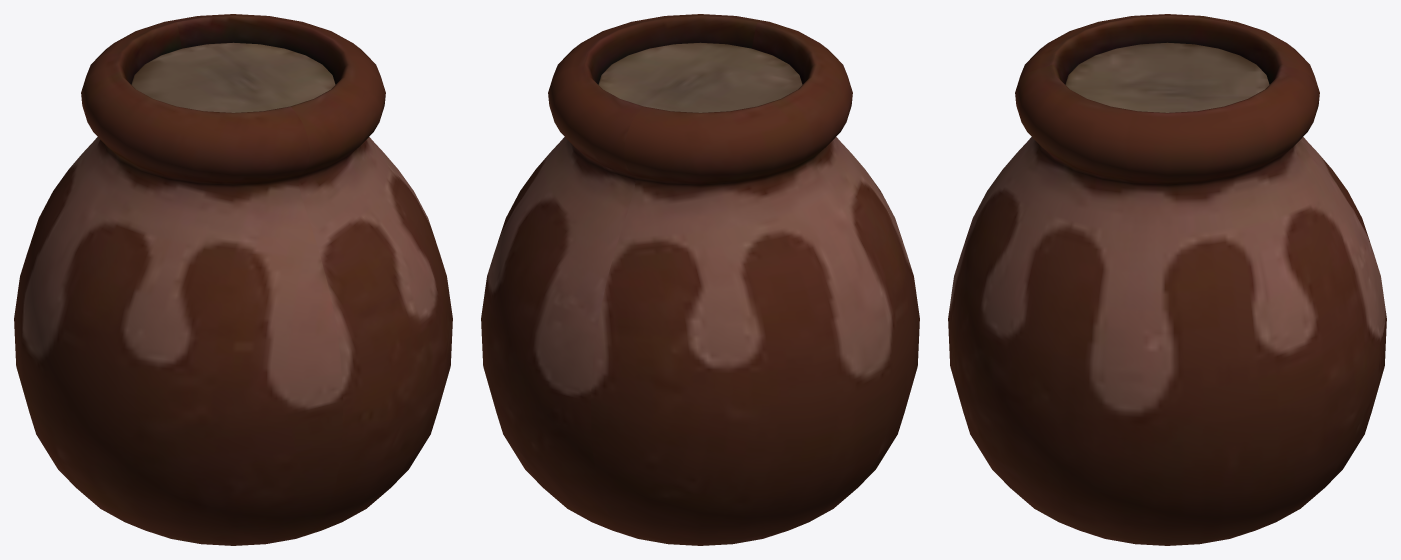
File: SM_pot_46047b.glb
The picture shows the model from 3 angles, left to right: view 1: azimuth 30°, elevation 25°; view 2: azimuth 150°, elevation 25°; view 3: azimuth 270°, elevation 25°; orthographic projection.
Bounding box in the file's own units: 0.7032 × 0.7858 × 0.7032.
Materials: 1 (1 with a texture image).
